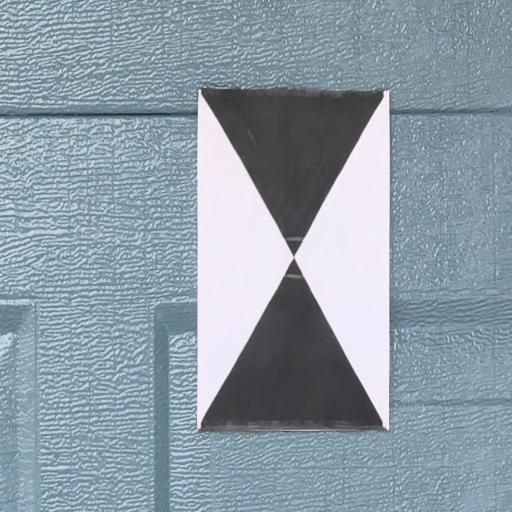target: (198, 89, 389, 429)
